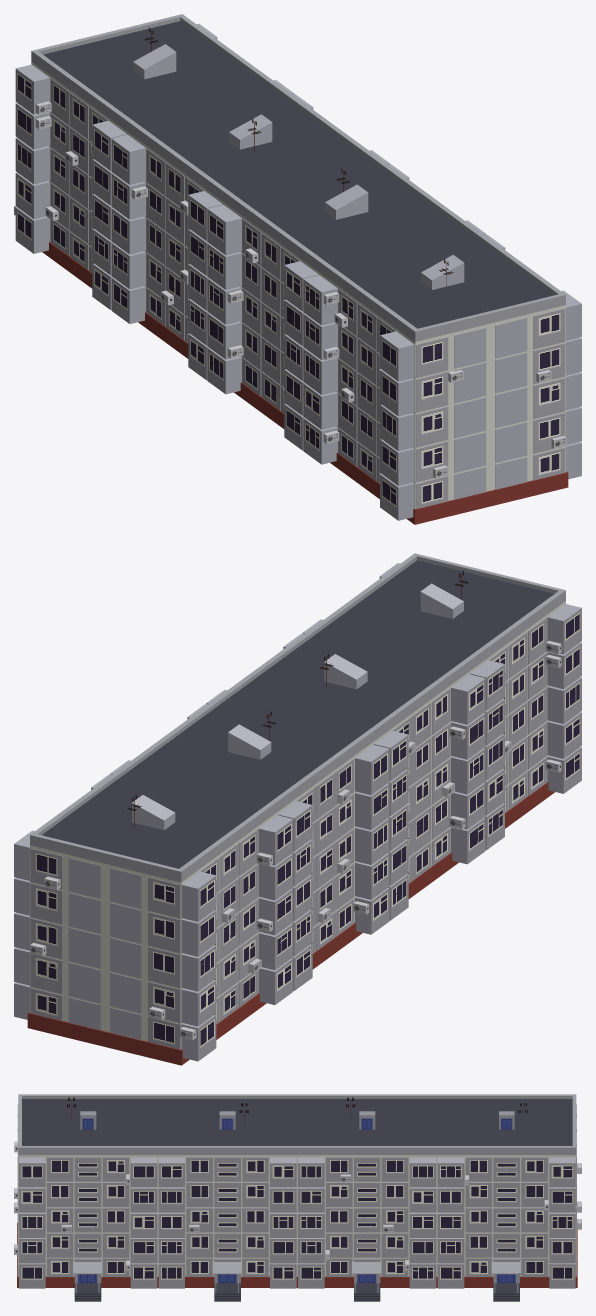
The model's file is soviet_panelka.glb.
3 renders of one model, top to bottom at view 1: azimuth 30°, elevation 25°; view 2: azimuth 150°, elevation 25°; view 3: azimuth 270°, elevation 25°, orthographic. The views are drawn at different scales.
Parts seen in each view (by area): view 1: P21, P13, P22, P10, P16, P06, P17, P07, P19, P12, P23, P14 (+7 smaller); view 2: P21, P13, P22, P10, P19, P06, P16, P17, P07, P12, P23, P02 (+7 smaller); view 3: P21, P08, P22, P10, P16, P13, P17, P19, P07, P06, P15, P14 (+9 smaller).
Part boxes in pixels (x1,y1,x2,y2): P21: (43, 21, 554, 328); P13: (16, 23, 581, 520); P22: (31, 14, 565, 341); P10: (31, 61, 565, 508); P16: (50, 79, 565, 508); P06: (50, 93, 565, 483); P17: (50, 114, 565, 480); P07: (50, 127, 565, 453); P19: (50, 107, 448, 482); P12: (42, 242, 568, 524); P23: (14, 101, 566, 482); P14: (92, 139, 398, 520); P21: (42, 560, 554, 868); P13: (14, 563, 581, 1061); P22: (30, 553, 565, 882); P10: (30, 601, 565, 1049); P19: (30, 632, 546, 1020); P06: (30, 667, 546, 997); P16: (148, 688, 546, 987); P17: (30, 716, 546, 1022); P07: (30, 618, 546, 1049); P12: (27, 782, 554, 1065); P23: (30, 640, 561, 1040); P02: (198, 678, 581, 991); P21: (22, 1099, 572, 1301); P08: (74, 1157, 519, 1257); P22: (18, 1094, 576, 1292); P10: (18, 1155, 576, 1276); P16: (47, 1157, 491, 1276); P13: (17, 1104, 576, 1276); P17: (47, 1157, 547, 1276); P19: (47, 1183, 547, 1276); P07: (47, 1157, 547, 1276); P06: (47, 1157, 547, 1276); P15: (19, 1163, 575, 1288); P14: (130, 1188, 575, 1288).
Size of the model in its own units: 13.1 by 13.31 by 42.74.
Materials: 24 (23 with a texture image).
